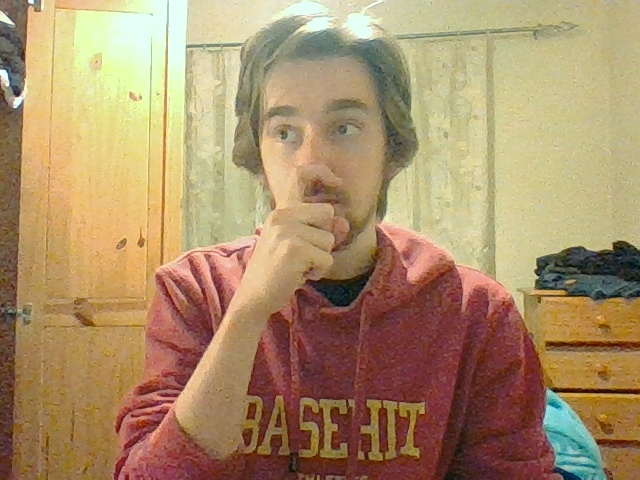sister: (264, 164, 352, 283)
